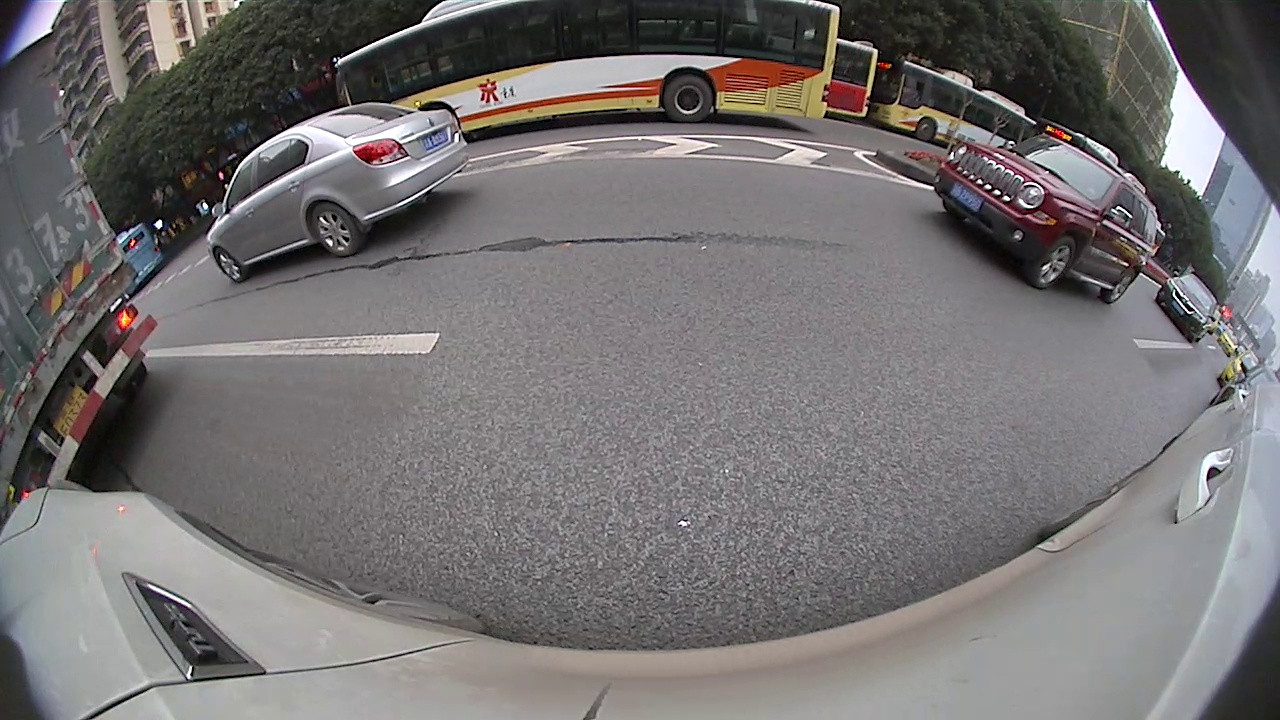bus: (337, 1, 842, 138), (871, 56, 1039, 153), (826, 40, 879, 120), (112, 228, 161, 299)
car: (206, 104, 473, 284), (931, 133, 1159, 306), (1160, 276, 1221, 343)
front: (1022, 235, 1078, 291), (310, 200, 364, 258), (213, 246, 249, 284), (913, 117, 937, 143)
rear: (661, 71, 715, 124), (1099, 267, 1136, 305)
truck: (3, 31, 160, 511)
